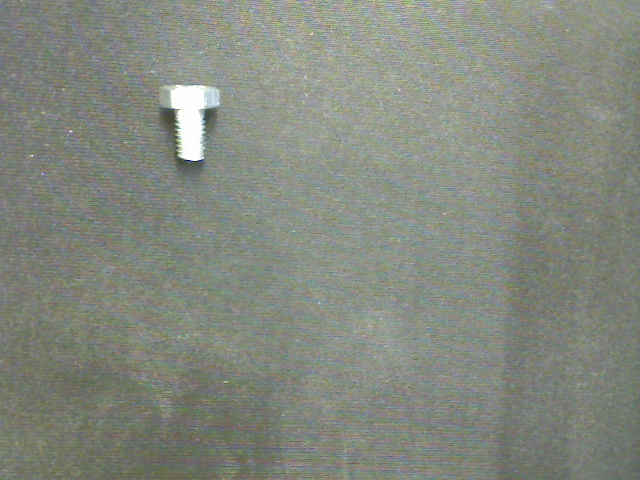screw2: (159, 85, 221, 164)
